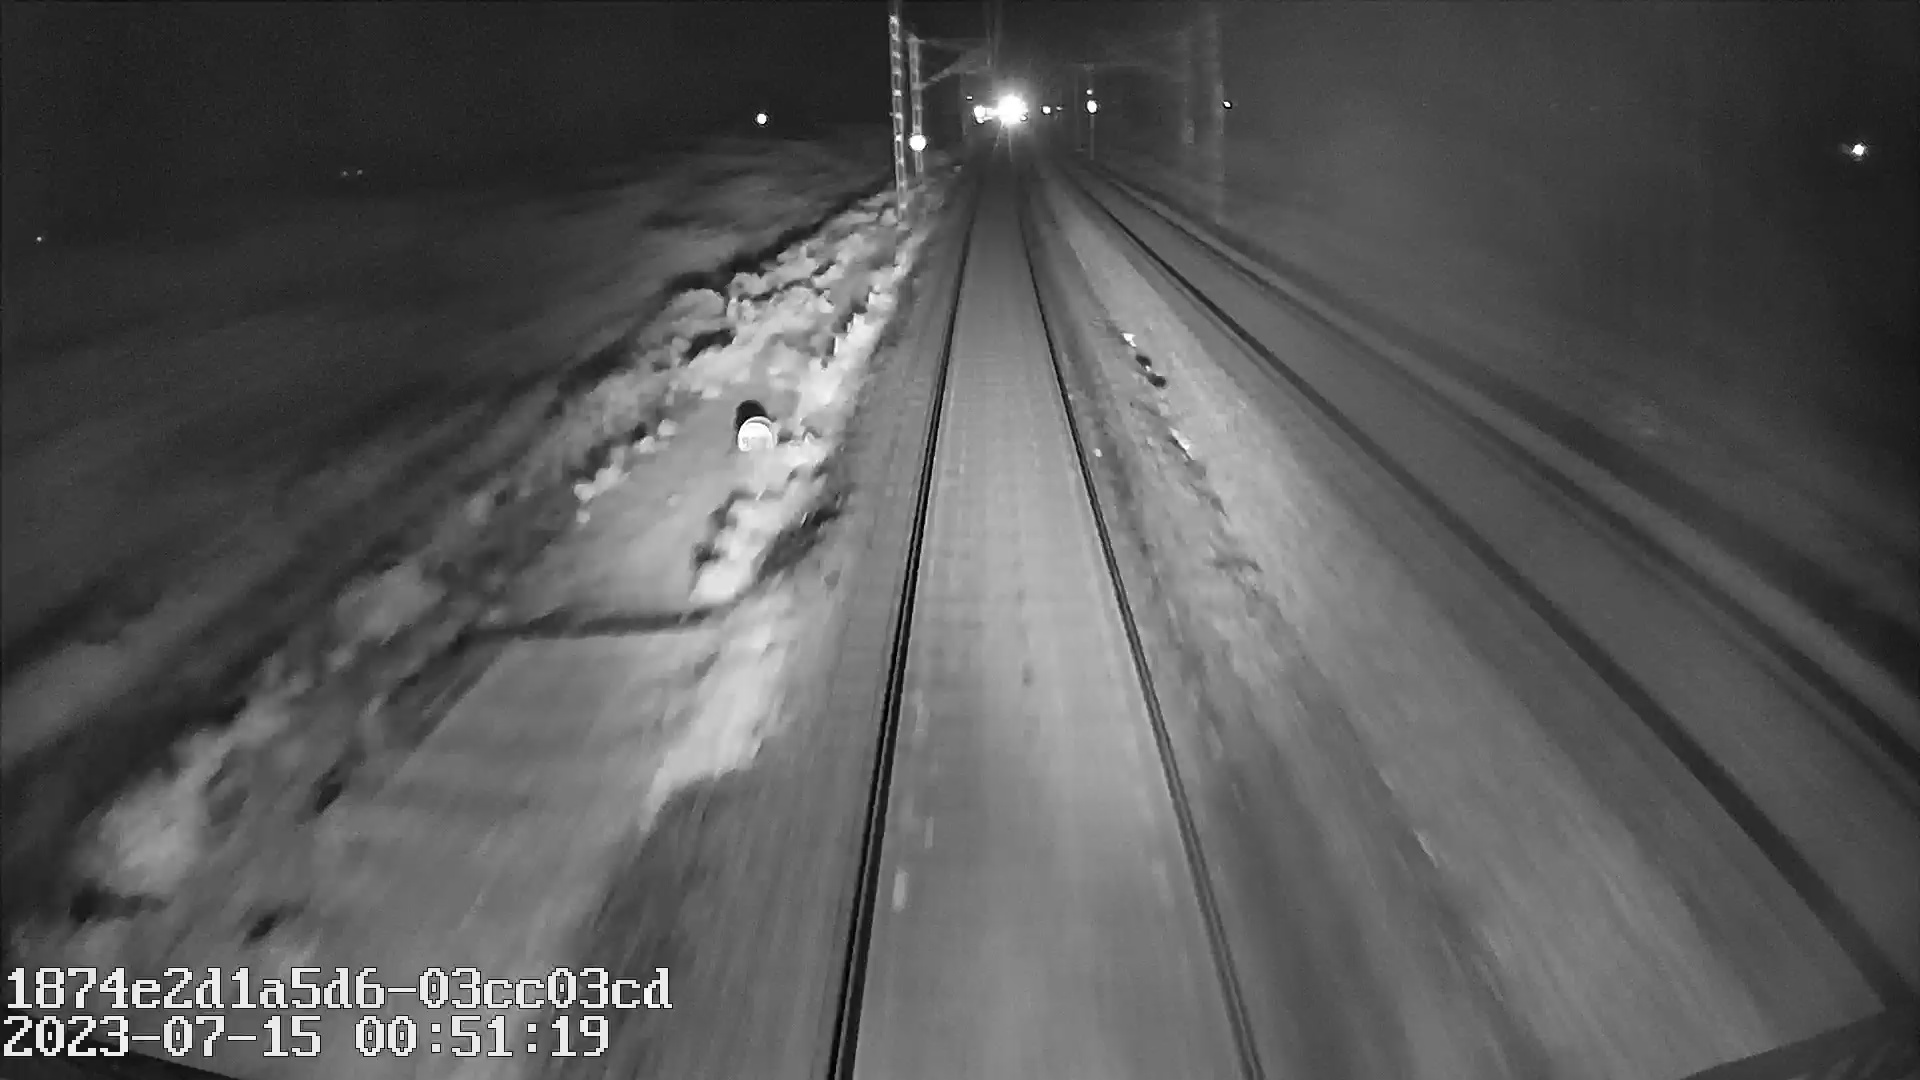track1: (842, 208, 1248, 1045)
track2: (1097, 200, 1908, 865)
